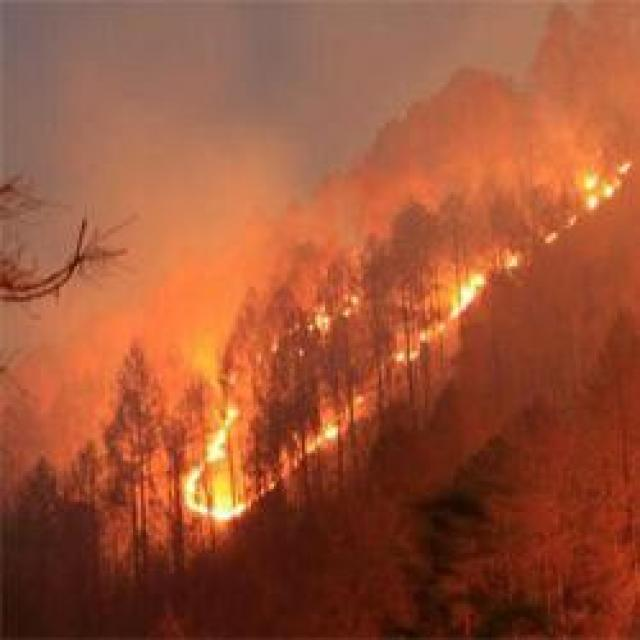fire: (440, 272, 496, 314), (582, 168, 622, 216), (203, 423, 232, 472), (208, 496, 252, 522)
smoke: (118, 123, 364, 250), (7, 5, 276, 121)
